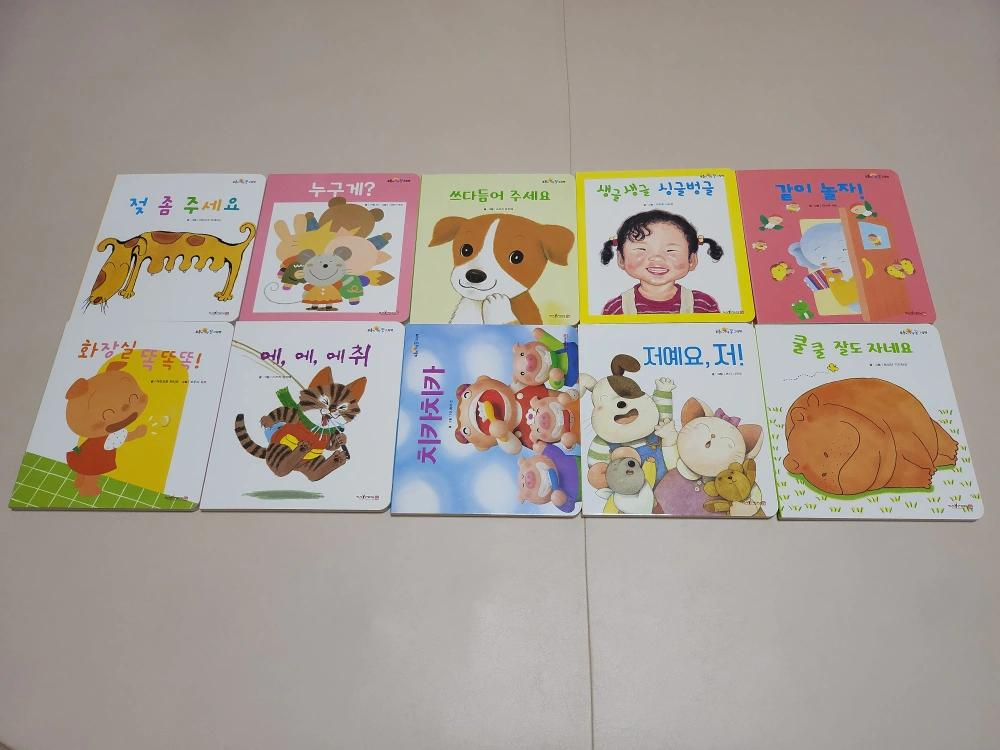book: (754, 321, 984, 521), (10, 322, 226, 512), (199, 320, 404, 513), (579, 322, 776, 518), (389, 323, 581, 516), (735, 167, 936, 324), (74, 161, 263, 321), (243, 162, 421, 323), (576, 167, 755, 322), (407, 168, 572, 324)
